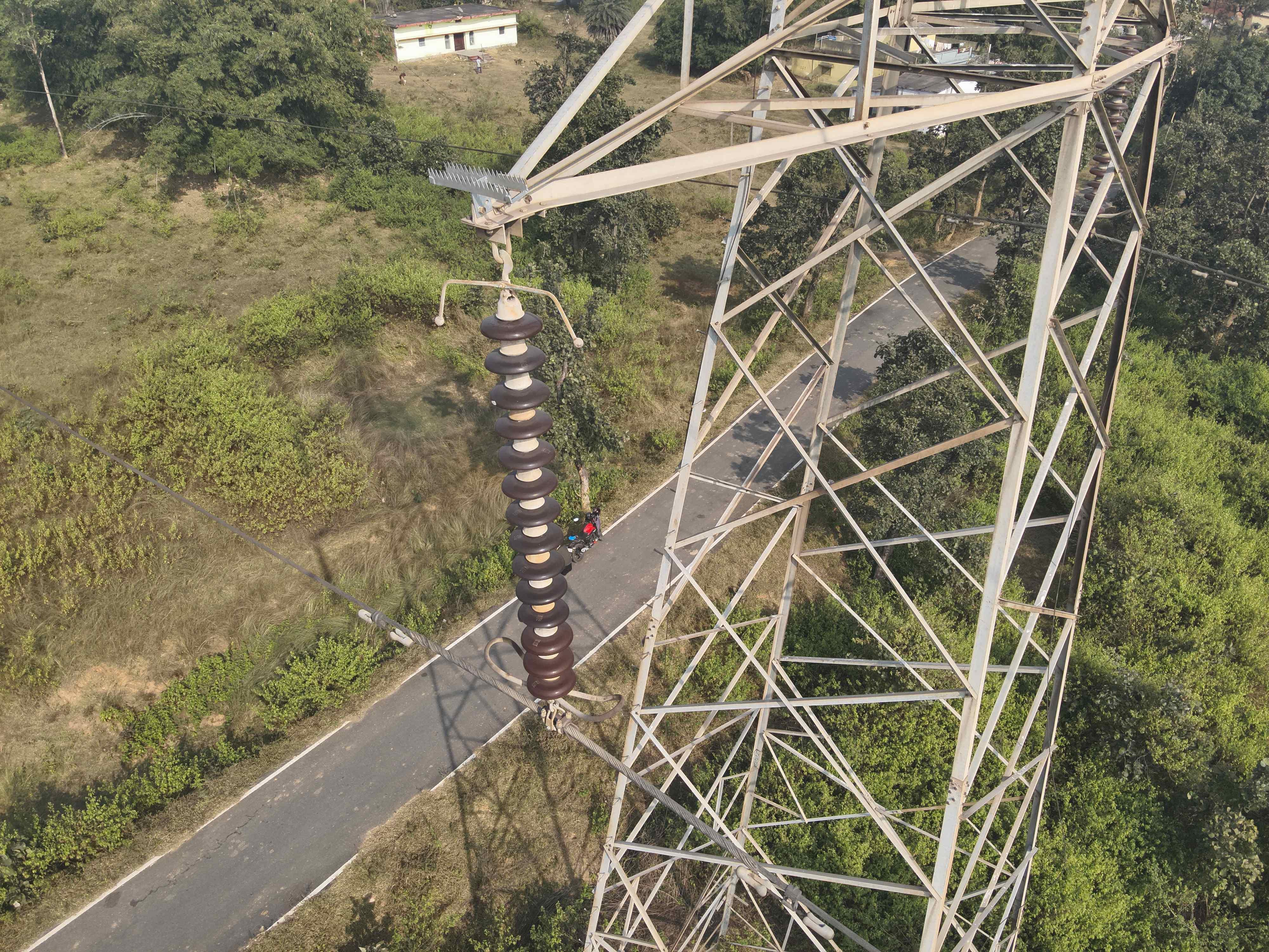broken_insulator: (513, 604, 576, 634)
